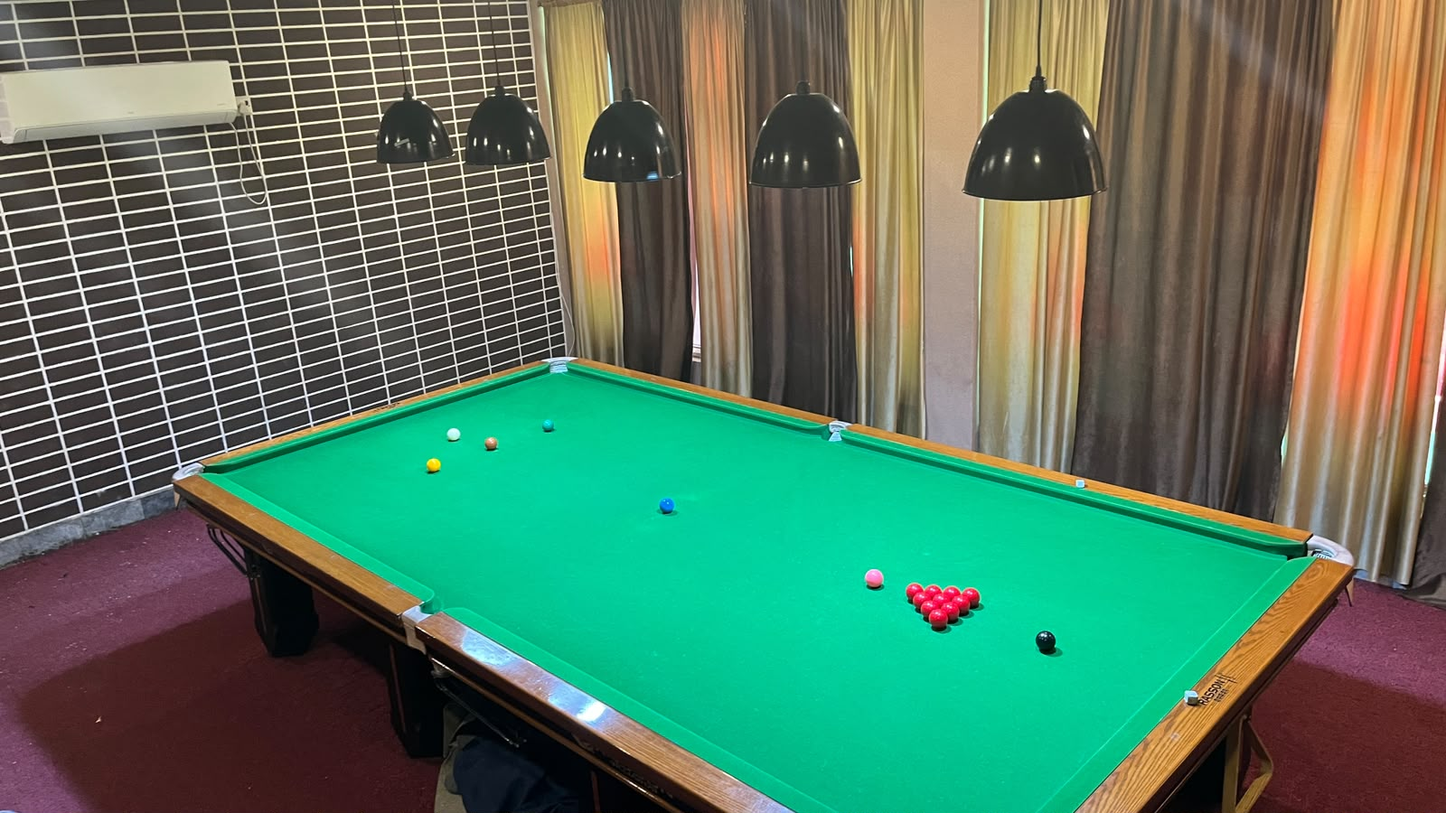Snooker: (905, 574, 991, 641)
